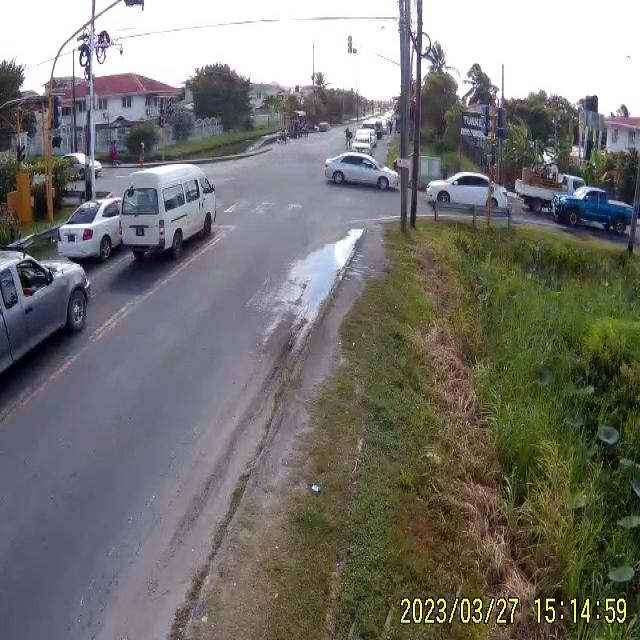car: (118, 166, 216, 260), (58, 198, 124, 261), (554, 189, 636, 234), (425, 172, 507, 209), (325, 153, 399, 190), (354, 128, 376, 150)
truck: (515, 168, 586, 213)
